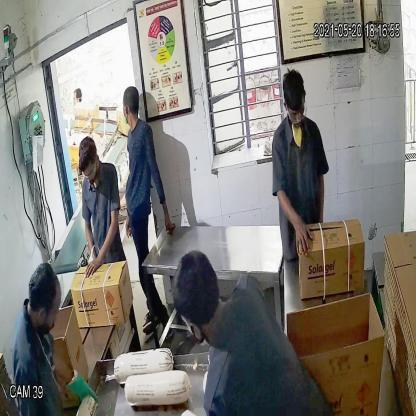goggles: (78, 164, 101, 183)
